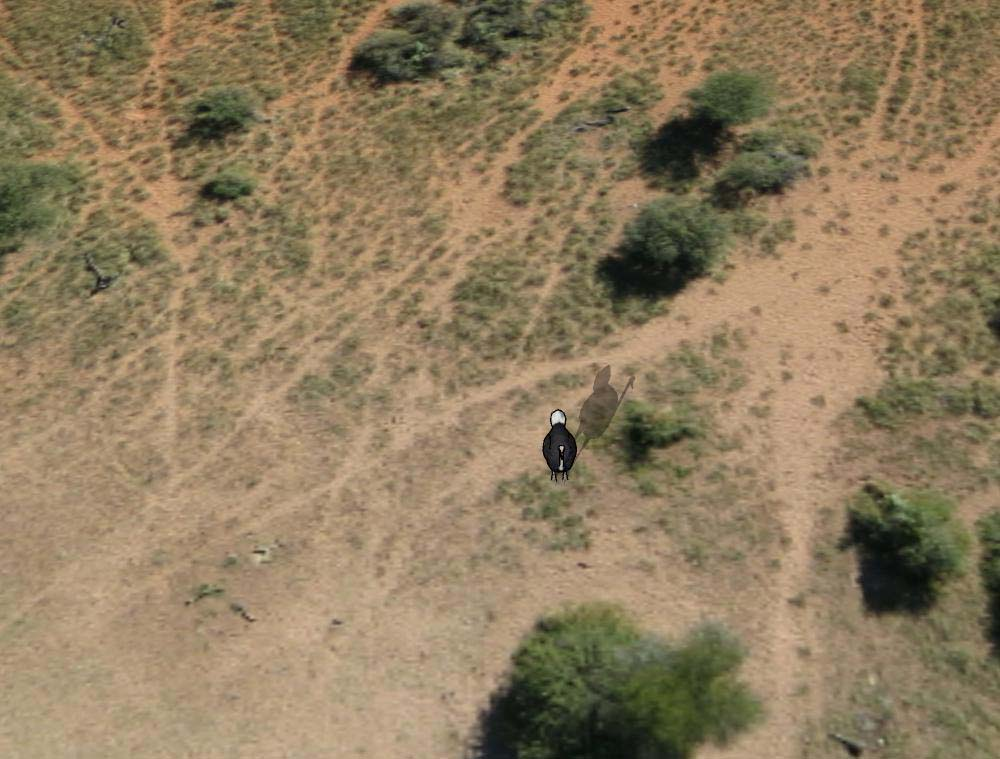springbok: (537, 408, 581, 481)
